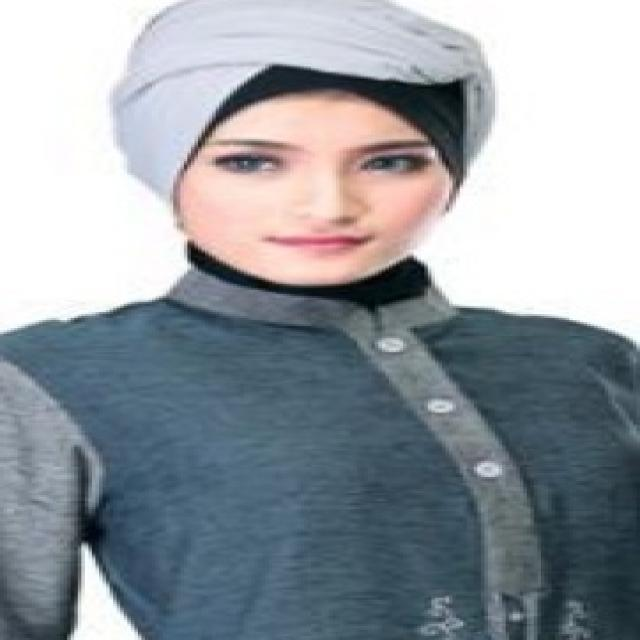head: (96, 16, 521, 295)
